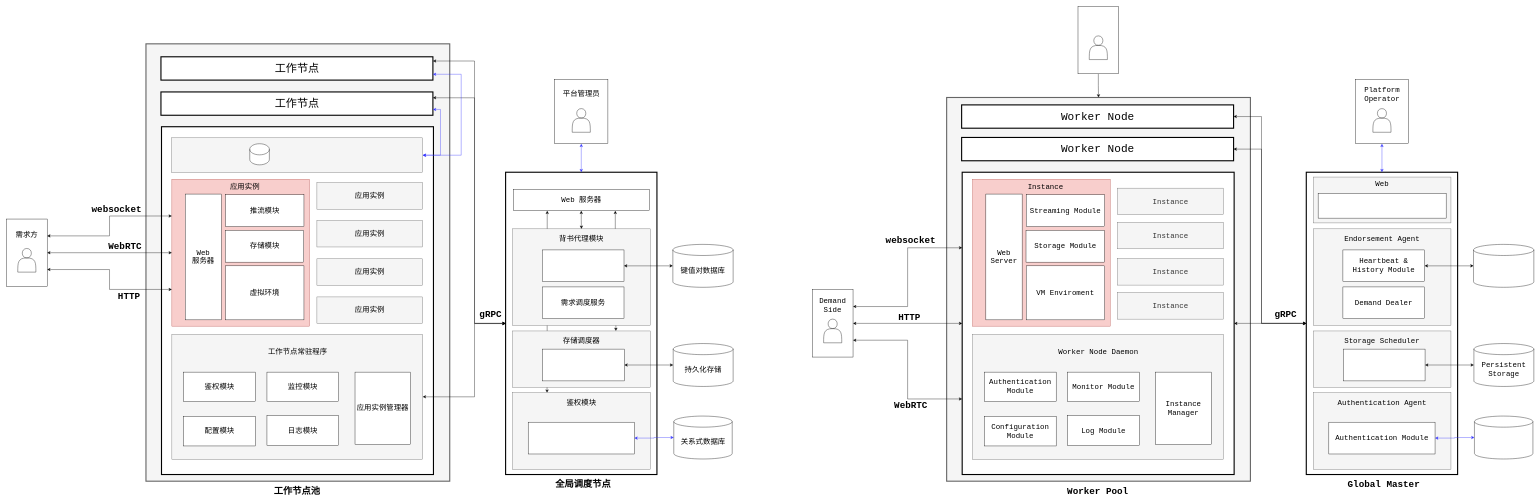
This 1540x504 diagram has some shape labels left out. Here are the shapes that lost their labels. From the top down, the box of each, then its label:
(1078, 6, 1119, 74): Supply Side
(171, 137, 423, 173): 本地镜像仓库
(1318, 193, 1446, 218): Management Interface
(542, 250, 624, 282): 历史数据管理服务
(1473, 244, 1534, 287): Redis
(542, 349, 624, 381): 存储调度服务
(1343, 349, 1425, 381): Scheduler Module
(528, 422, 634, 454): 鉴权服务
(1474, 416, 1533, 459): RDB
